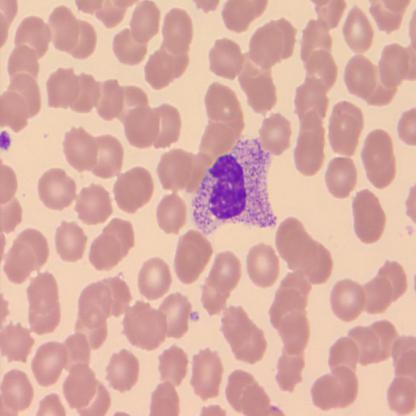Metamyelocyte: (189, 134, 279, 236)
